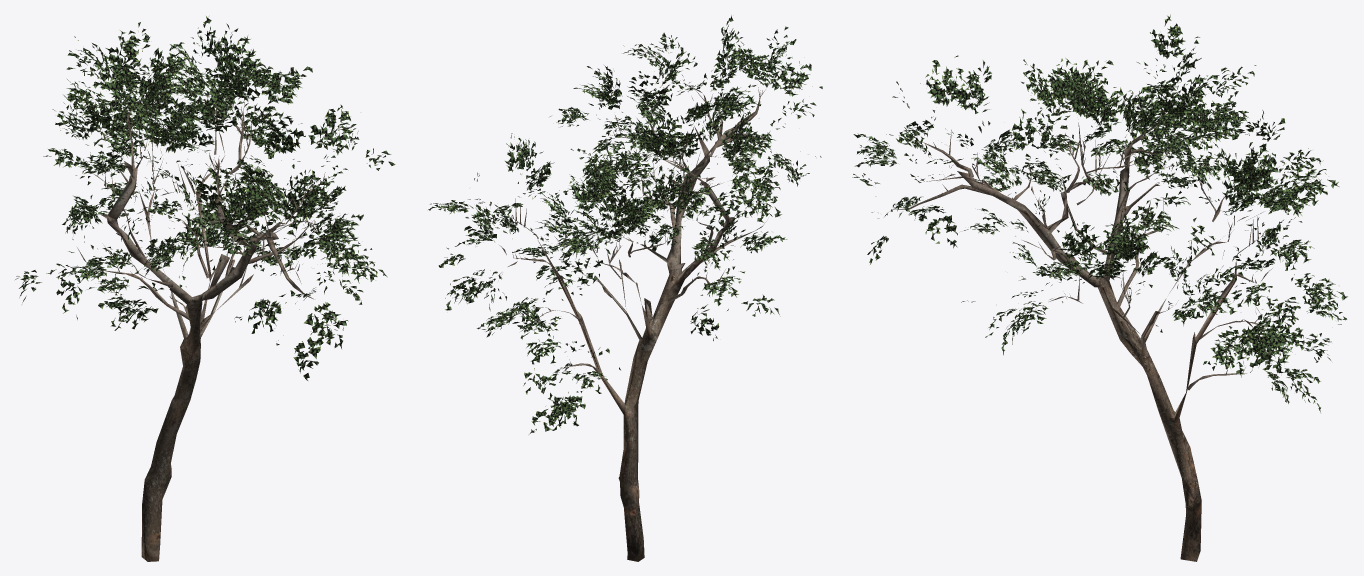
The model's file is tree_small_02_lod2.glb.
3 views of the same model, side by side, from view 1: azimuth 30°, elevation 25°; view 2: azimuth 150°, elevation 25°; view 3: azimuth 270°, elevation 25° (orthographic). The views are drawn at different scales.
Parts seen in each view (by area): view 1: tree_small_02_LOD0; view 2: tree_small_02_LOD0; view 3: tree_small_02_LOD0.
Boxes of the visible parts, bbox=[...] form: tree_small_02_LOD0: bbox=[15, 16, 395, 561]; tree_small_02_LOD0: bbox=[428, 15, 822, 561]; tree_small_02_LOD0: bbox=[852, 14, 1347, 561].
Size of the model in its own units: 2.9 by 4.55 by 4.07.
Materials: 3 (3 with a texture image).
